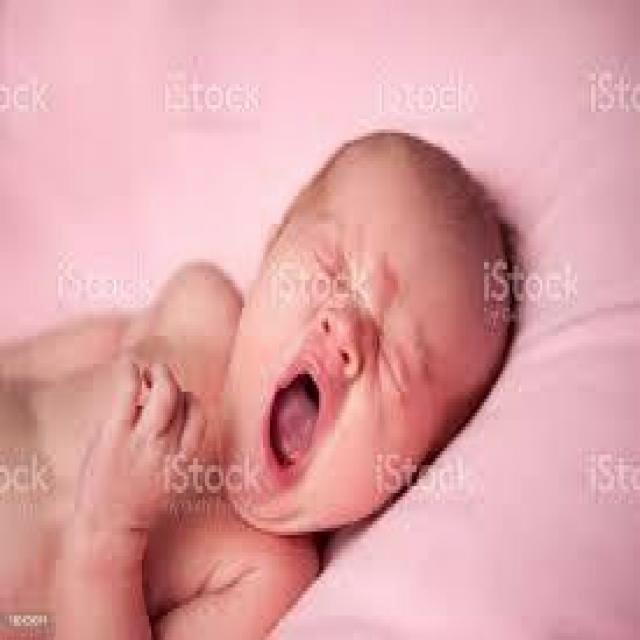child: (7, 126, 517, 633)
